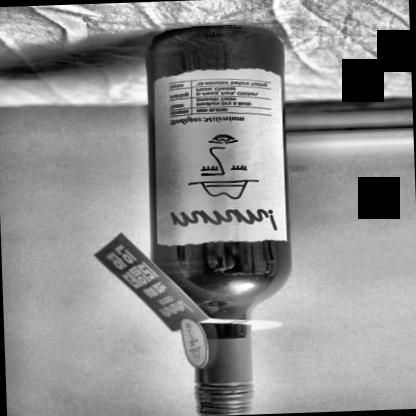umm: (144, 64, 288, 248)
